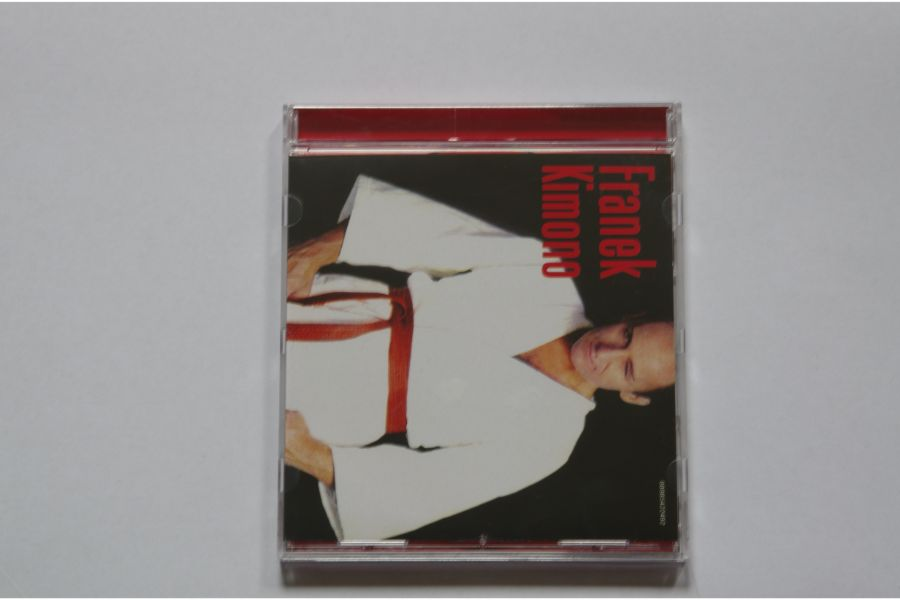album: (275, 98, 693, 566)
